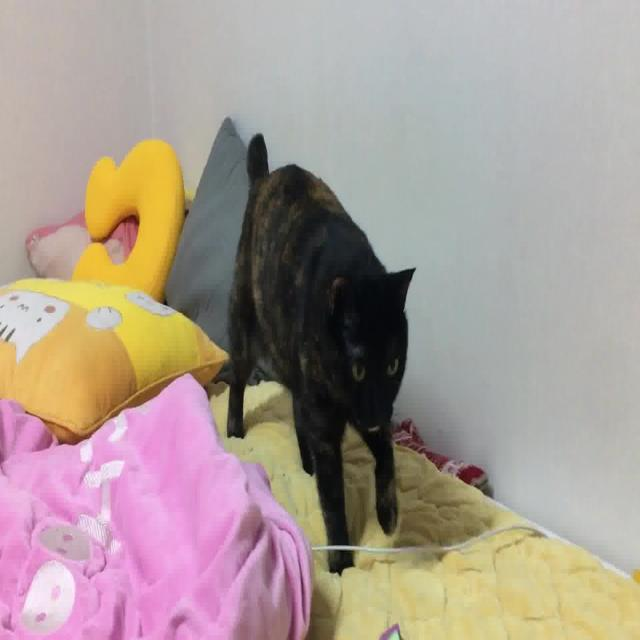cat: (221, 128, 417, 576)
